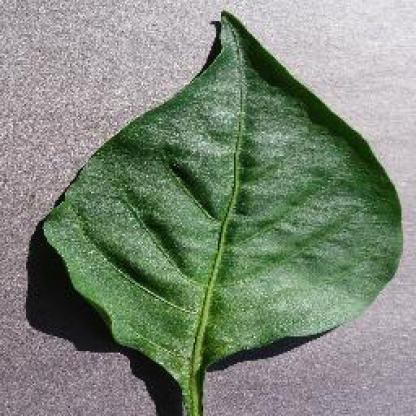good leaf: (19, 19, 396, 394)
